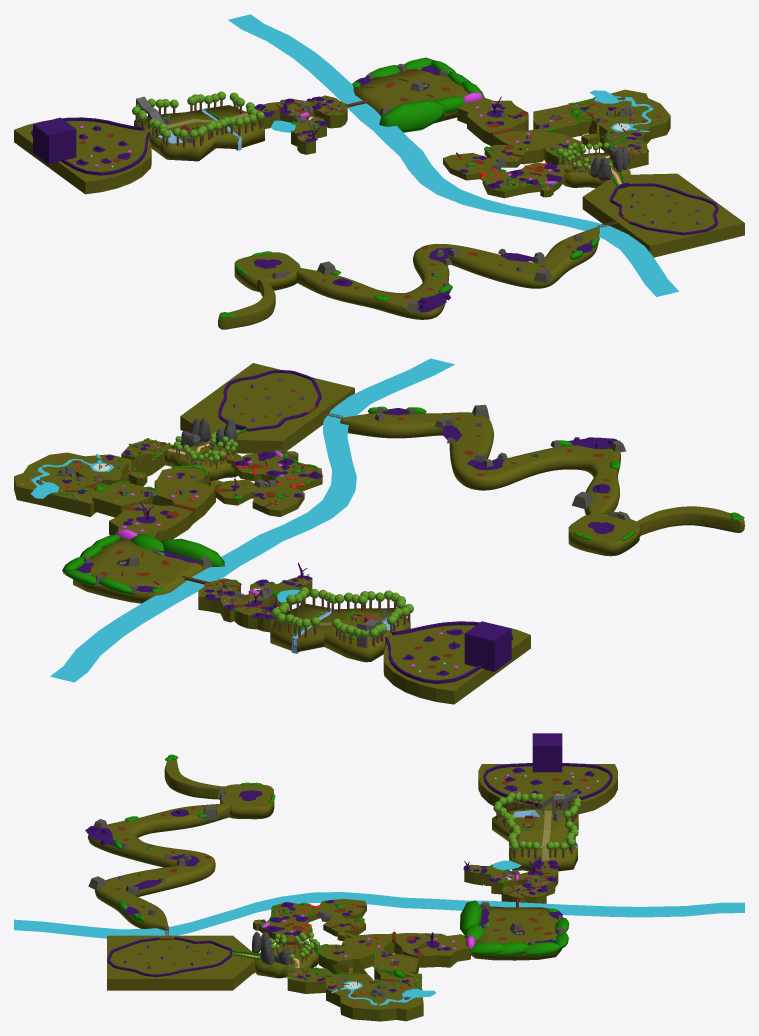
File: GreyBoxDefninitivo.fbx
The picture shows the model from 3 angles, top to bottom: view 1: azimuth 30°, elevation 25°; view 2: azimuth 150°, elevation 25°; view 3: azimuth 270°, elevation 25°; orthographic projection. The views are drawn at different scales.
Visible parts, largest first — view 1: Plane.115, Plane.087, Plane.084, Plane.105, Plane.130, Plane.099, Plane.013, Plane.044, Circle.001, Plane.040, Cube.460, Plane.021 (+19 smaller); view 2: Plane.115, Plane.087, Plane.084, Plane.105, Plane.129, Plane.040, Plane.131, Circle.001, Plane.130, Plane.013, Plane.044, Plane.021 (+21 smaller); view 3: Plane.087, Plane.115, Plane.084, Plane.105, Plane.130, Plane.018, Plane.013, Plane.099, Plane.040, Plane.131, Plane.129, Plane.044 (+20 smaller).
Part boxes in pixels (x1=…): Plane.115: x1=228, y1=14, x2=678, y2=296; Plane.087: x1=582, y1=173, x2=744, y2=257; Plane.084: x1=14, y1=121, x2=151, y2=194; Plane.105: x1=353, y1=69, x2=468, y2=123; Plane.130: x1=433, y1=244, x2=556, y2=288; Plane.099: x1=295, y1=268, x2=408, y2=317; Plane.013: x1=457, y1=97, x2=528, y2=146; Plane.044: x1=134, y1=112, x2=216, y2=161; Circle.001: x1=33, y1=117, x2=76, y2=164; Plane.040: x1=234, y1=252, x2=300, y2=291; Cube.460: x1=379, y1=100, x2=445, y2=132; Plane.021: x1=482, y1=163, x2=566, y2=198; Plane.115: x1=50, y1=358, x2=454, y2=682; Plane.087: x1=180, y1=363, x2=354, y2=453; Plane.084: x1=383, y1=623, x2=530, y2=704; Plane.105: x1=73, y1=538, x2=206, y2=603; Plane.129: x1=340, y1=412, x2=462, y2=438; Plane.040: x1=568, y1=513, x2=639, y2=556; Plane.131: x1=465, y1=446, x2=565, y2=490; Circle.001: x1=464, y1=621, x2=511, y2=671; Plane.130: x1=449, y1=412, x2=493, y2=486; Plane.013: x1=109, y1=504, x2=193, y2=540; Plane.044: x1=324, y1=608, x2=410, y2=662; Plane.021: x1=232, y1=453, x2=322, y2=491; Plane.087: x1=107, y1=935, x2=255, y2=990; Plane.115: x1=14, y1=892, x2=744, y2=938; Plane.084: x1=478, y1=764, x2=617, y2=813; Plane.105: x1=471, y1=906, x2=561, y2=960; Plane.130: x1=95, y1=861, x2=214, y2=900; Plane.018: x1=340, y1=992, x2=423, y2=1021; Plane.013: x1=394, y1=933, x2=471, y2=967; Plane.099: x1=111, y1=803, x2=229, y2=833; Plane.040: x1=220, y1=784, x2=274, y2=819; Plane.131: x1=108, y1=841, x2=215, y2=871; Plane.129: x1=100, y1=889, x2=168, y2=930; Plane.044: x1=492, y1=808, x2=578, y2=841.
Size of the model in its own units: 54876 by 4802 by 67167.
